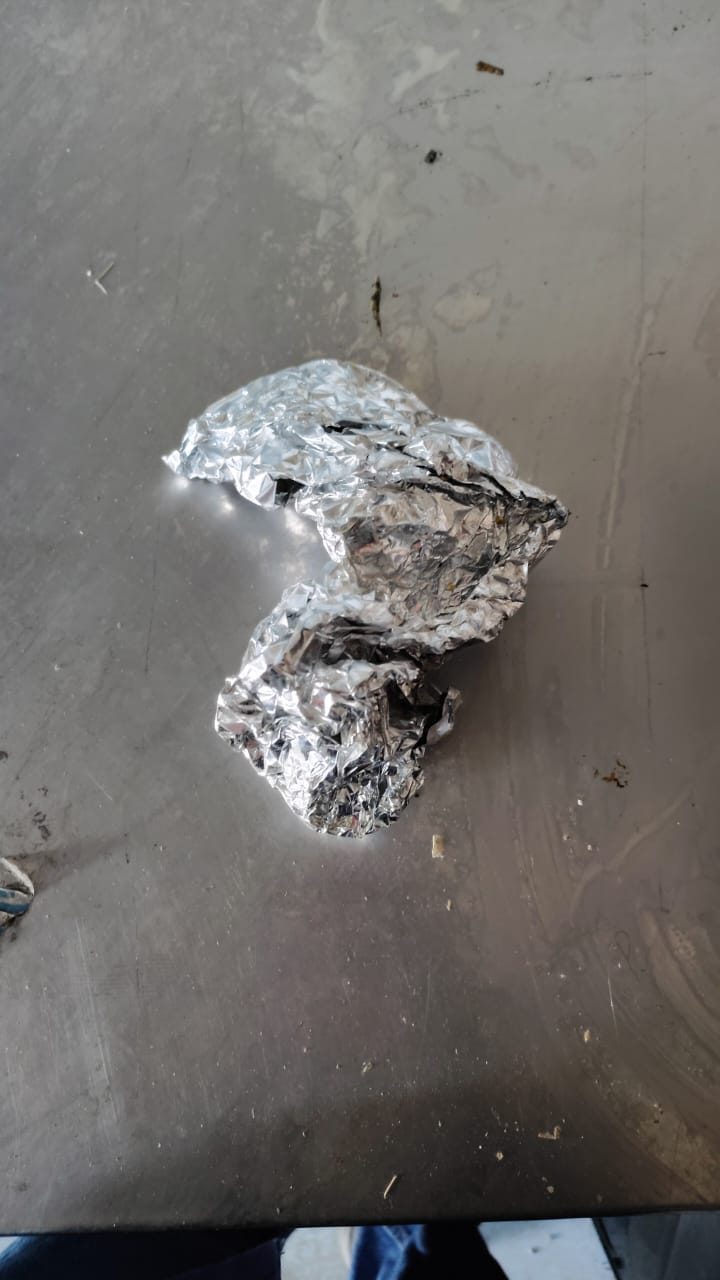Ordinario: (157, 359, 571, 837)
